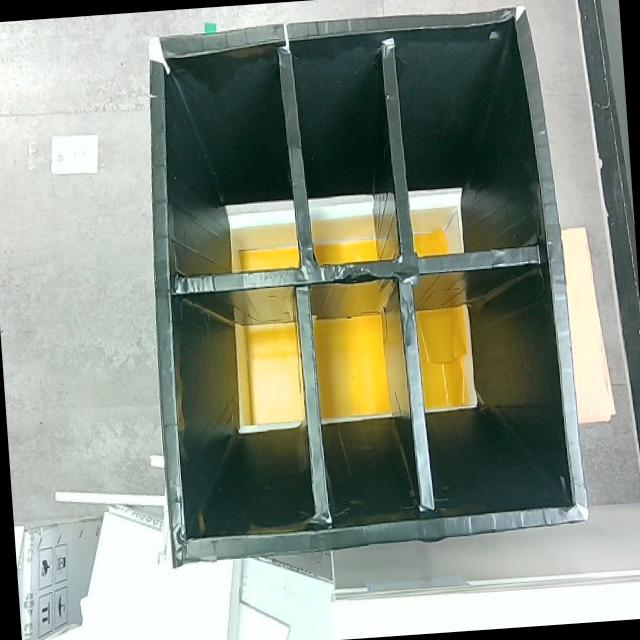box: (132, 2, 590, 564)
